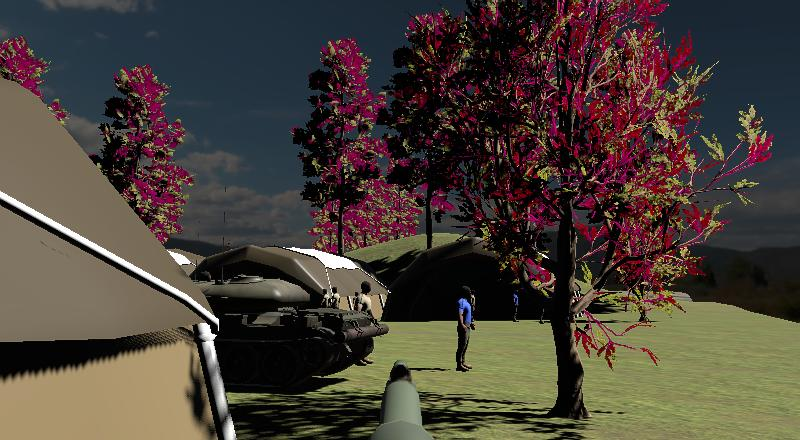Human: (350, 279, 377, 369), (453, 284, 477, 374)
Tank: (182, 268, 386, 393)
